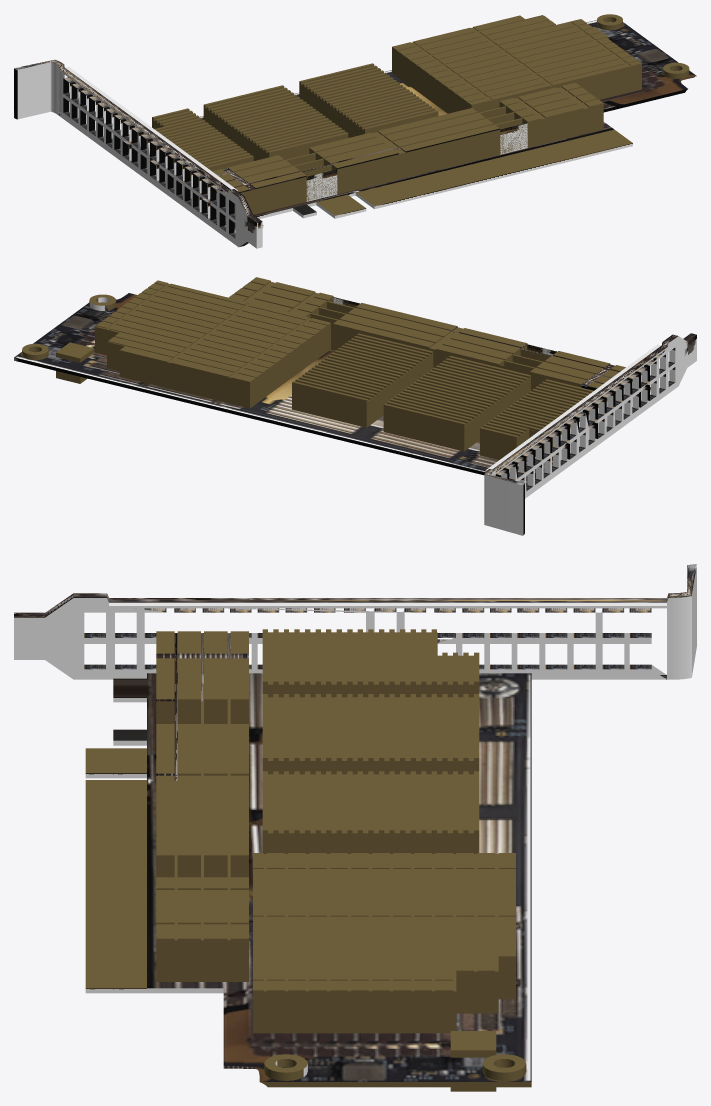
Rendered from infiniband_v2_txtr.glb.
The picture shows the model from 3 angles, top to bottom: view 1: azimuth 30°, elevation 25°; view 2: azimuth 150°, elevation 25°; view 3: azimuth 270°, elevation 25°; orthographic projection. The views are drawn at different scales.
Parts seen in each view (by area): view 1: infiniband_slotSide_combined; view 2: infiniband_slotSide_combined; view 3: infiniband_slotSide_combined.
Boxes of the visible parts, left/top/right/bottom form: infiniband_slotSide_combined: left=14, top=14, right=696, bottom=248; infiniband_slotSide_combined: left=14, top=277, right=696, bottom=535; infiniband_slotSide_combined: left=14, top=564, right=696, bottom=1091.
Bounding box in the file's own units: 0.0678 × 0.00775 × 0.0442.
Materials: 3 (2 with a texture image).
